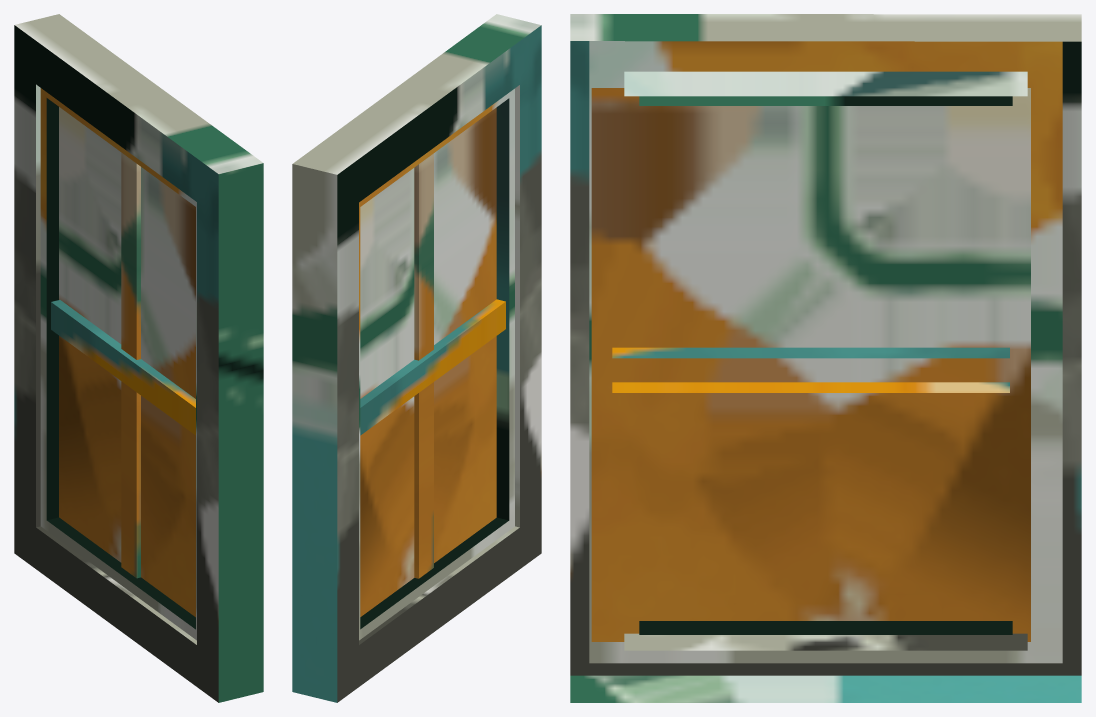
Rendered from WindmillHouseWindows_low.fbx.
The picture shows the model from 3 angles, left to right: view 1: azimuth 30°, elevation 25°; view 2: azimuth 150°, elevation 25°; view 3: azimuth 270°, elevation 25°; orthographic projection. The views are drawn at different scales.
Parts seen in each view (by area): view 1: WindmillHouseWindows_low; view 2: WindmillHouseWindows_low; view 3: WindmillHouseWindows_low.
Part boxes in pixels (bbox=[...]): WindmillHouseWindows_low: bbox=[14, 14, 263, 702]; WindmillHouseWindows_low: bbox=[292, 14, 541, 702]; WindmillHouseWindows_low: bbox=[570, 14, 1081, 702].
Size of the model in its own units: 0.335 by 3.77 by 2.64.
